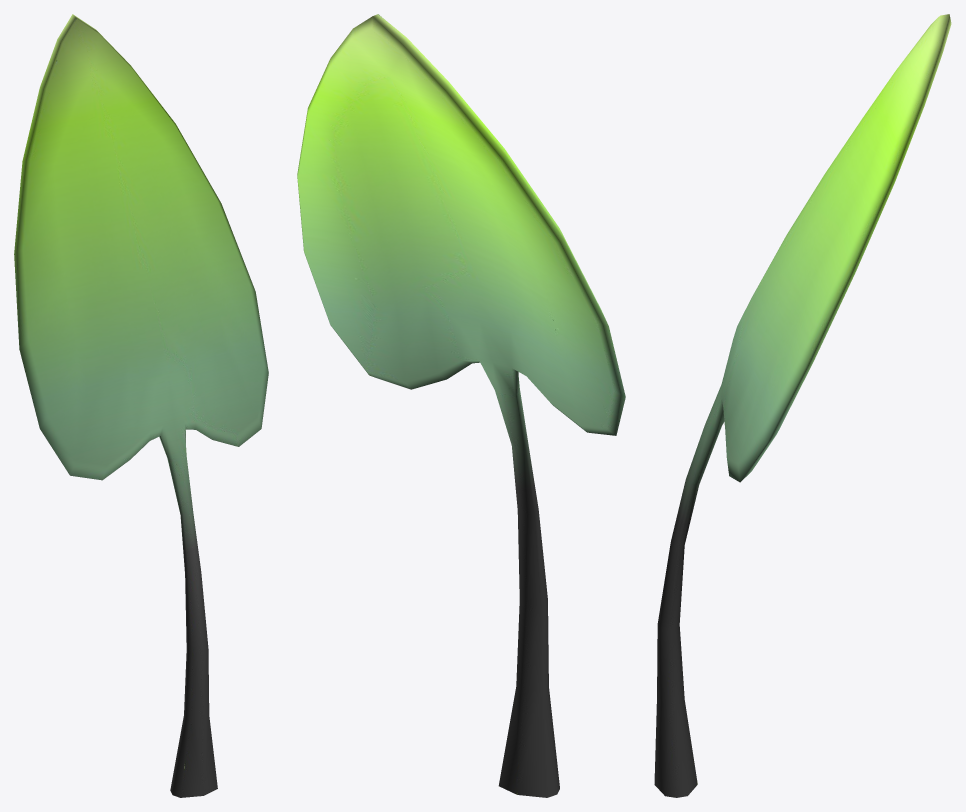
File: Big_Leave.fbx
3 renders of one model, left to right at view 1: azimuth 30°, elevation 25°; view 2: azimuth 150°, elevation 25°; view 3: azimuth 270°, elevation 25°, orthographic. The views are drawn at different scales.
Parts seen in each view (by area): view 1: Big_Leave; view 2: Big_Leave; view 3: Big_Leave.
Boxes of the visible parts, bbox=[...] form: Big_Leave: bbox=[14, 14, 268, 797]; Big_Leave: bbox=[297, 14, 625, 797]; Big_Leave: bbox=[654, 14, 951, 797].
Bounding box in the file's own units: 218 × 605 × 211.
